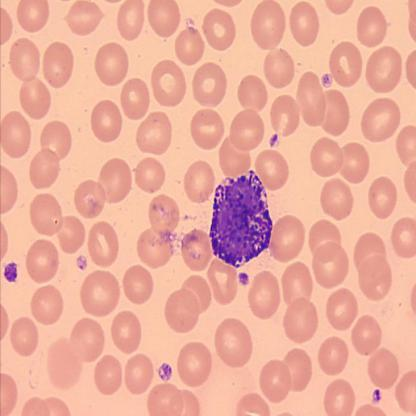Basophil: (206, 168, 274, 270)
